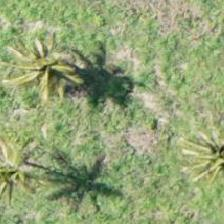coconut_tree: (9, 22, 99, 112), (38, 39, 128, 129), (0, 121, 51, 211), (175, 102, 223, 192)
